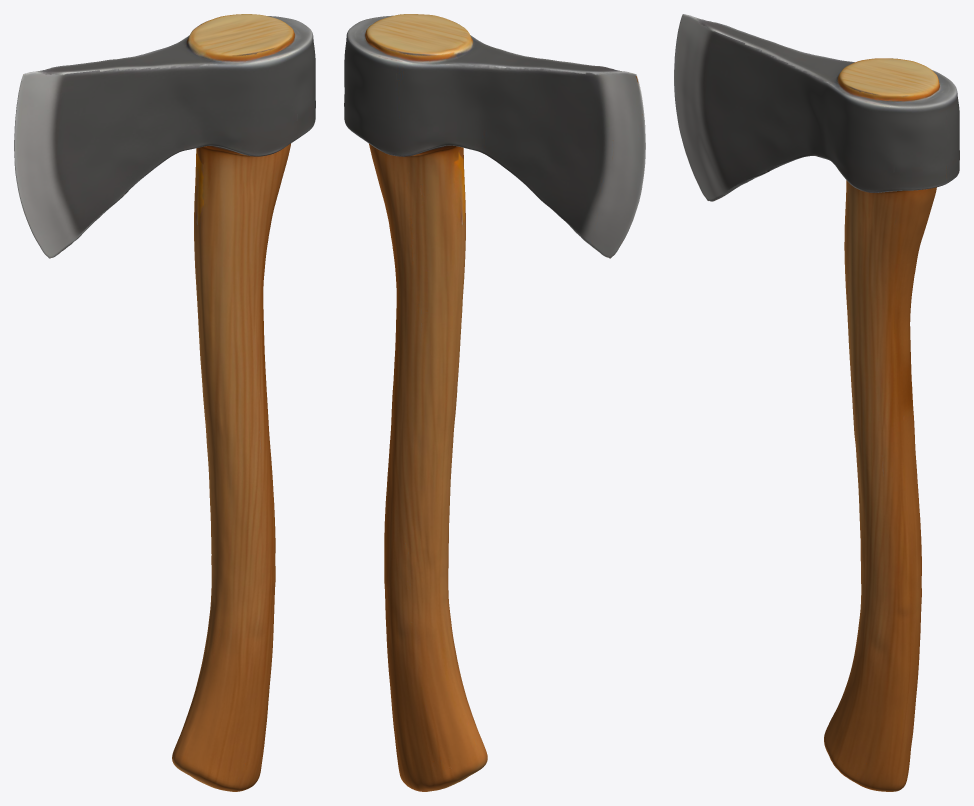
Rendered from tripo_convert_f10af669-bddb-4af7-a466-bc386297f5fa(Kampak).fbx.
The picture shows the model from 3 angles, left to right: view 1: azimuth 30°, elevation 25°; view 2: azimuth 150°, elevation 25°; view 3: azimuth 330°, elevation 25°; orthographic projection. The views are drawn at different scales.
Parts seen in each view (by area): view 1: tripo_node_f10af669; view 2: tripo_node_f10af669; view 3: tripo_node_f10af669.
Boxes of the visible parts, x1=… form: tripo_node_f10af669: x1=14, y1=14, x2=315, y2=791; tripo_node_f10af669: x1=344, y1=14, x2=645, y2=791; tripo_node_f10af669: x1=674, y1=14, x2=959, y2=791.
Bounding box in the file's own units: 0.4037 × 0.9985 × 0.1299.
